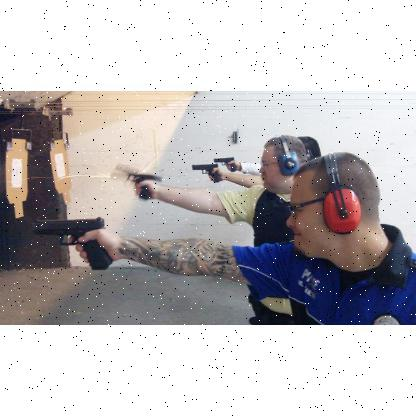gun: (29, 216, 112, 271), (110, 168, 162, 202), (190, 163, 220, 183), (212, 155, 236, 173)
